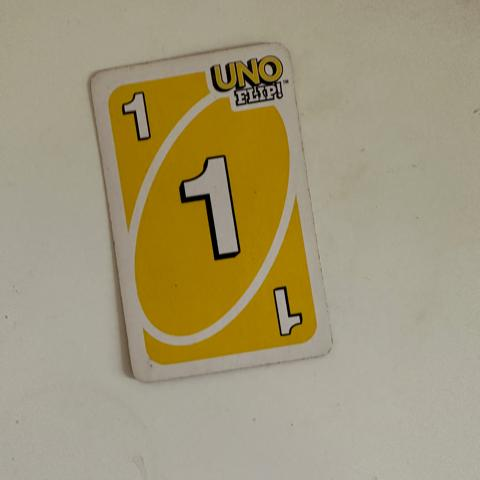lyellow-1: (106, 75, 171, 158)
